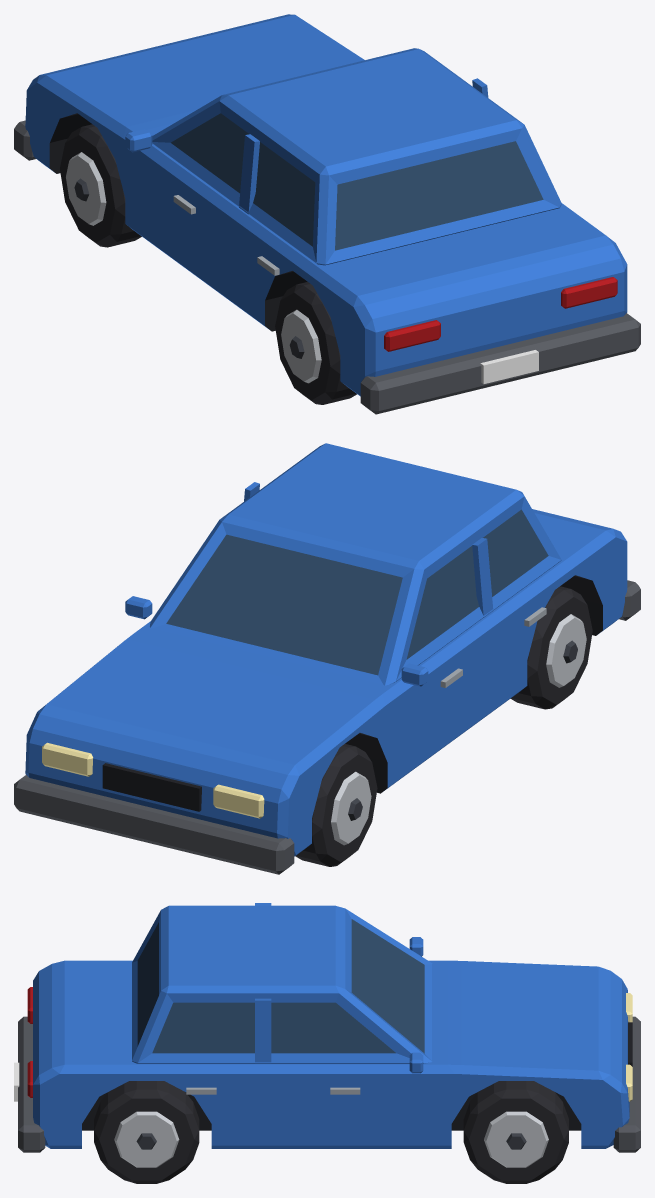
Rendered from Car_Blue.glb.
3 views of the same model, one above another, from view 1: azimuth 30°, elevation 25°; view 2: azimuth 150°, elevation 25°; view 3: azimuth 270°, elevation 25° (orthographic). The views are drawn at different scales.
Parts seen in each view (by area): view 1: Car_Blue_Body, Car_Blue_Wheel_FL, Car_Blue_Wheel_RL; view 2: Car_Blue_Body, Car_Blue_Wheel_FL, Car_Blue_Wheel_RL; view 3: Car_Blue_Body, Car_Blue_Wheel_FR, Car_Blue_Wheel_RR.
Boxes of the visible parts, left/top/right/bottom form: Car_Blue_Body: left=14, top=14, right=640, bottom=414; Car_Blue_Wheel_FL: left=60, top=124, right=141, bottom=247; Car_Blue_Wheel_RL: left=275, top=282, right=356, bottom=404; Car_Blue_Body: left=14, top=443, right=640, bottom=874; Car_Blue_Wheel_FL: left=295, top=744, right=377, bottom=866; Car_Blue_Wheel_RL: left=510, top=586, right=592, bottom=709; Car_Blue_Body: left=14, top=903, right=640, bottom=1152; Car_Blue_Wheel_FR: left=463, top=1081, right=568, bottom=1183; Car_Blue_Wheel_RR: left=94, top=1081, right=199, bottom=1183.
Bounding box in the file's own units: 2.16 × 1.5 × 4.58.
1 material, 1 textured.
